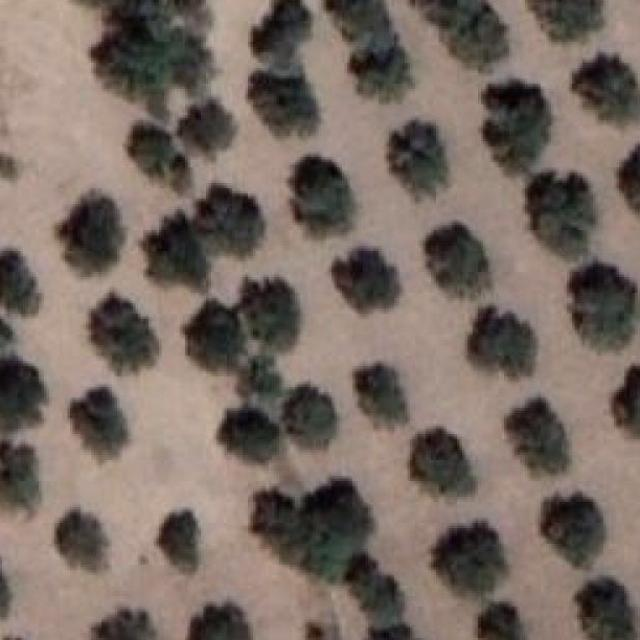Tree: (94, 11, 213, 102), (304, 478, 374, 577), (478, 78, 549, 170), (567, 260, 637, 348), (431, 521, 510, 598), (58, 191, 128, 276), (192, 181, 268, 258), (88, 288, 162, 366), (530, 170, 596, 256), (288, 155, 358, 231), (141, 214, 211, 290), (410, 427, 483, 498), (248, 65, 318, 139), (572, 52, 640, 128), (329, 244, 402, 312), (124, 120, 198, 187), (235, 274, 300, 349), (544, 495, 608, 571), (387, 118, 444, 203), (183, 298, 248, 367), (348, 39, 420, 101), (504, 402, 570, 468), (340, 558, 401, 626), (426, 220, 485, 290), (0, 356, 50, 437), (250, 0, 312, 64), (468, 308, 528, 374), (352, 364, 412, 430), (68, 385, 123, 456), (54, 507, 115, 570), (522, 0, 610, 43), (222, 406, 279, 472), (444, 14, 512, 69), (574, 580, 634, 640), (180, 97, 235, 161), (154, 505, 206, 572), (0, 242, 43, 314), (0, 439, 40, 515), (248, 492, 299, 551), (282, 387, 334, 442), (468, 596, 528, 640), (190, 598, 252, 640), (330, 0, 391, 37), (91, 604, 152, 640), (616, 144, 640, 227), (614, 369, 640, 439), (236, 356, 280, 395), (413, 0, 488, 21), (363, 622, 425, 640), (0, 560, 17, 621), (0, 314, 22, 351), (0, 152, 20, 183)
